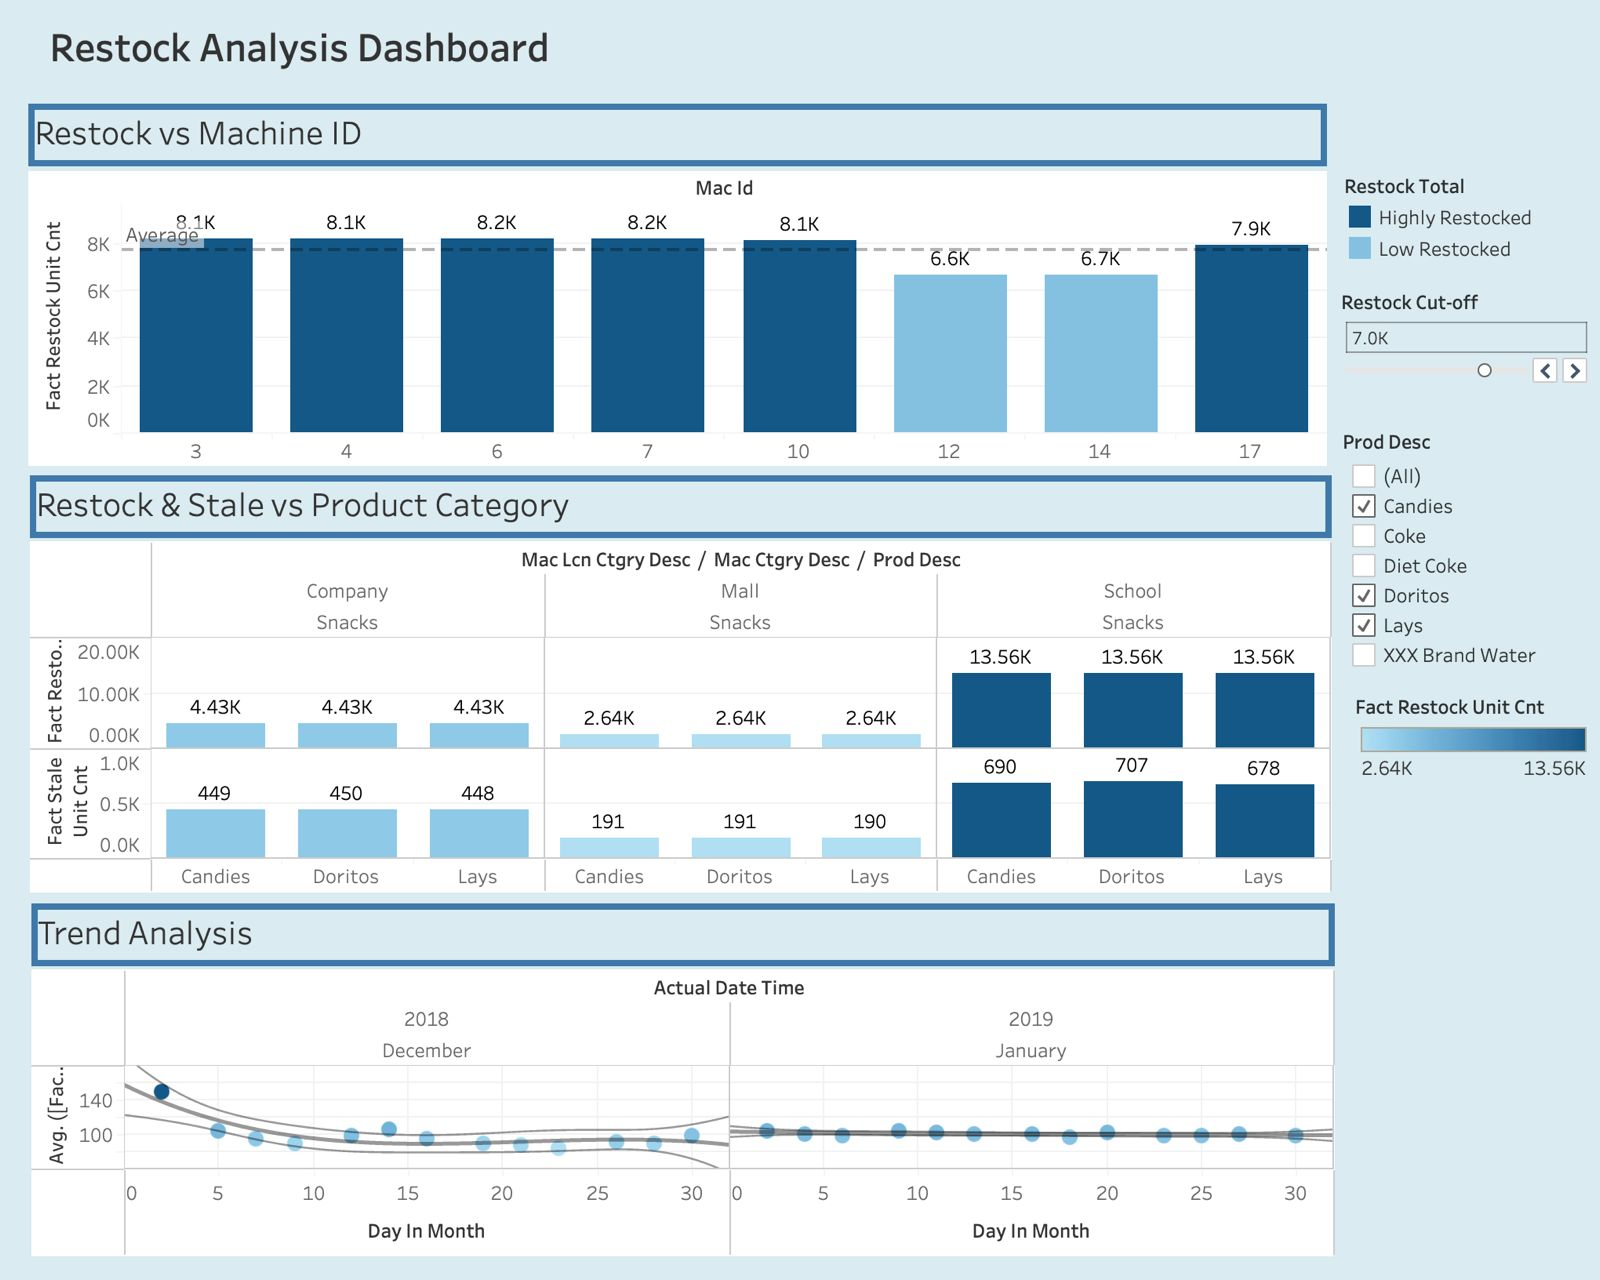

This screenshot's page, from the dashboard's own definition file:
{"tool":"tableau","page":{"name":"Dashboard 1","canvas":[1000,800],"ordinal":0},"visuals":[{"type":"title","box":[8,8,984,41]},{"type":"worksheet","title":"Sheet 1","mark":"Bar","rows":["fact_restock_unit_cnt"],"cols":["mac_id"],"box":[1,65,828,231]},{"type":"legend","title":"Sheet 1","param":"[federated.00n7szl0mmis301djd23s129sbap].[io:Restock Total:nk]","box":[840,109,159,58]},{"type":"parameter","param":"[Parameters].[Parameter 1]","box":[838,183,160,67]},{"type":"filter","title":"Sheet 2","param":"[federated.00n7szl0mmis301djd23s129sbap].[none:prod_desc:nk]","box":[839,272,160,157]},{"type":"worksheet","title":"Sheet 2","mark":"Automatic","rows":["fact_restock_unit_cnt","fact_stale_unit_cnt"],"cols":["mac_lcn_ctgry_desc","mac_ctgry_desc","prod_desc"],"box":[2,302,830,266]},{"type":"legend","title":"Sheet 2","param":"[federated.00n7szl0mmis301djd23s129sbap].[sum:fact_restock_unit_cnt:qk]","box":[847,441,152,76]},{"type":"worksheet","title":"Sheet 3","mark":"Circle","rows":["Calculation_3562628784211337216"],"cols":["actual_date_time","actual_date_time","day_in_month"],"box":[3,575,831,225]}]}

Visuals, with their boxes in screenshot pixels (x1, y1, x2, y2), scaled from the page's 1000x800 canvas onto the 1600x1280 screenshot:
title: 13 13 1587 78
"Sheet 1" worksheet (Bar marks): 2 104 1326 474
"Sheet 1" legend: 1344 174 1598 267
parameter: 1341 293 1597 400
"Sheet 2" filter: 1342 435 1598 686
"Sheet 2" worksheet: 3 483 1331 909
"Sheet 2" legend: 1355 706 1598 827
"Sheet 3" worksheet (Circle marks): 5 920 1334 1279
